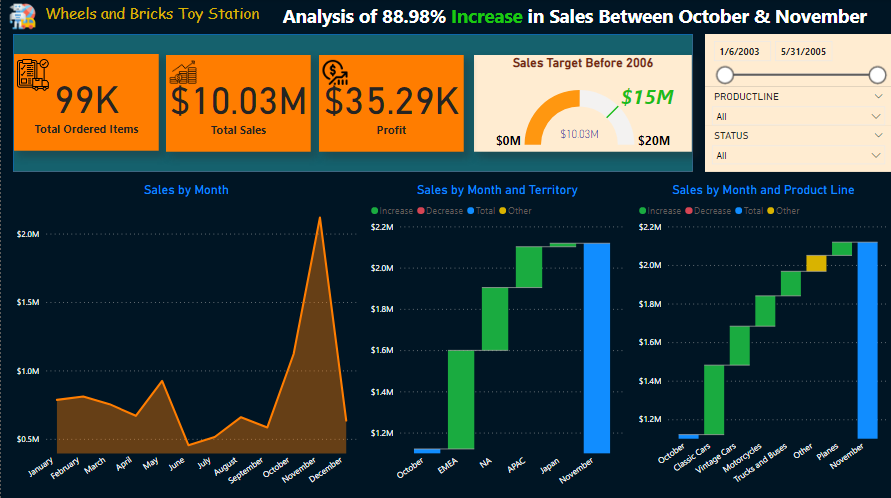

The page's visual inventory and layout, read from the dashboard file:
{"tool":"powerbi","page":{"name":"Page 3","canvas":[1280,720],"ordinal":2},"visuals":[{"type":"image","box":[0,0,61.8,50.3],"z":0},{"type":"waterfallChart","title":"Sales by Month and Territory","fields":{"Category":["Date.Date.Variation.Date Hierarchy.Month"],"Breakdown":["sales_data_sample.TERRITORY"],"Y":["Sum(sales_data_sample.SALES)"]},"box":[526,263,375.1,457],"z":1000},{"type":"waterfallChart","title":"Sales by Month and Product Line","fields":{"Category":["Date.Date.Variation.Date Hierarchy.Month"],"Breakdown":["sales_data_sample.PRODUCTLINE"],"Y":["Sum(sales_data_sample.SALES)"]},"box":[911.1,263,369.3,457],"z":2000},{"type":"shape","box":[17.2,50.3,977.2,198.3],"z":3000},{"type":"slicer","fields":{"Values":["sales_data_sample.PRODUCTLINE"]},"box":[1011.7,126.5,268.7,56],"z":4000},{"type":"slicer","fields":{"Values":["sales_data_sample.STATUS"]},"box":[1011.7,182.5,268.7,66.1],"z":5000},{"type":"slicer","fields":{"Values":["sales_data_sample.Date"]},"box":[1011.7,50.3,268.7,76.2],"z":6000},{"type":"areaChart","title":"Sales by Month","fields":{"Category":["Date.Date.Variation.Date Hierarchy.Year","Date.Date.Variation.Date Hierarchy.Quarter","Date.Date.Variation.Date Hierarchy.Month","Date.Date.Variation.Date Hierarchy.Day"],"Y":["Sum(sales_data_sample.SALES)"]},"box":[17.2,263,498.7,457],"z":7000},{"type":"textbox","box":[399.5,0,881,50.3],"z":8000},{"type":"textbox","box":[17.2,0,399.5,50.3],"z":9000},{"type":"card","fields":{"Values":["sales_data_sample.Total Ordered Items"]},"box":[18.7,79,208.4,139.4],"z":10000},{"type":"card","fields":{"Values":["sales_data_sample.Total Sales"]},"box":[237.1,80.5,208.4,139.4],"z":11000},{"type":"gauge","title":"Sales Target Before 2006","fields":{"TargetValue":["sales_data_sample.Goal before 2006"],"MaxValue":["sales_data_sample.Max"],"Y":["Sum(sales_data_sample.SALES)"]},"box":[679.8,80.5,313.3,139.4],"z":12000},{"type":"card","fields":{"Values":["sales_data_sample.Profit"]},"box":[457,80.5,208.4,139.4],"z":13000},{"type":"image","box":[17.2,80.5,57.5,57.5],"z":14000},{"type":"image","box":[237.1,80.5,48.9,48.9],"z":15000},{"type":"image","box":[457,80.5,46,48.9],"z":16000}]}

Visuals, with their boxes in screenshot pixels (x1, y1, x2, y2), scaled from the page's 1280x720 canvas onto the 891x498 screenshot:
image: left=0, top=0, right=43, bottom=35
"Sales by Month and Territory" waterfallChart: left=366, top=182, right=627, bottom=497
"Sales by Month and Product Line" waterfallChart: left=634, top=182, right=890, bottom=497
shape: left=12, top=35, right=692, bottom=172
slicer - sales_data_sample.PRODUCTLINE: left=704, top=87, right=890, bottom=126
slicer - sales_data_sample.STATUS: left=704, top=126, right=890, bottom=172
slicer - sales_data_sample.Date: left=704, top=35, right=890, bottom=87
"Sales by Month" areaChart: left=12, top=182, right=359, bottom=497
textbox: left=278, top=0, right=890, bottom=35
textbox: left=12, top=0, right=290, bottom=35
card - sales_data_sample.Total Ordered Items: left=13, top=55, right=158, bottom=151
card - sales_data_sample.Total Sales: left=165, top=56, right=310, bottom=152
"Sales Target Before 2006" gauge: left=473, top=56, right=691, bottom=152
card - sales_data_sample.Profit: left=318, top=56, right=463, bottom=152
image: left=12, top=56, right=52, bottom=95
image: left=165, top=56, right=199, bottom=90
image: left=318, top=56, right=350, bottom=90
